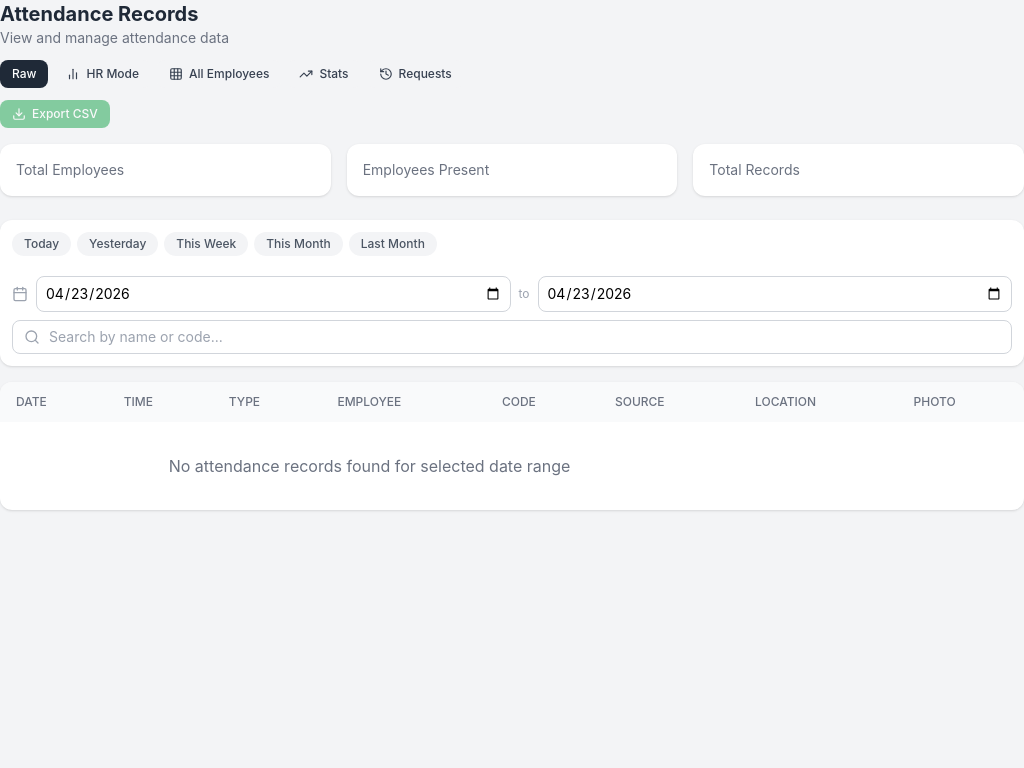
Test: UI Test 02 — Attendance Page › clicking Manual Entry opens modal
This screenshot has width=1024, height=768.
Click the button "HR Mode". click: (103, 74)
box: [54, 60, 151, 88]
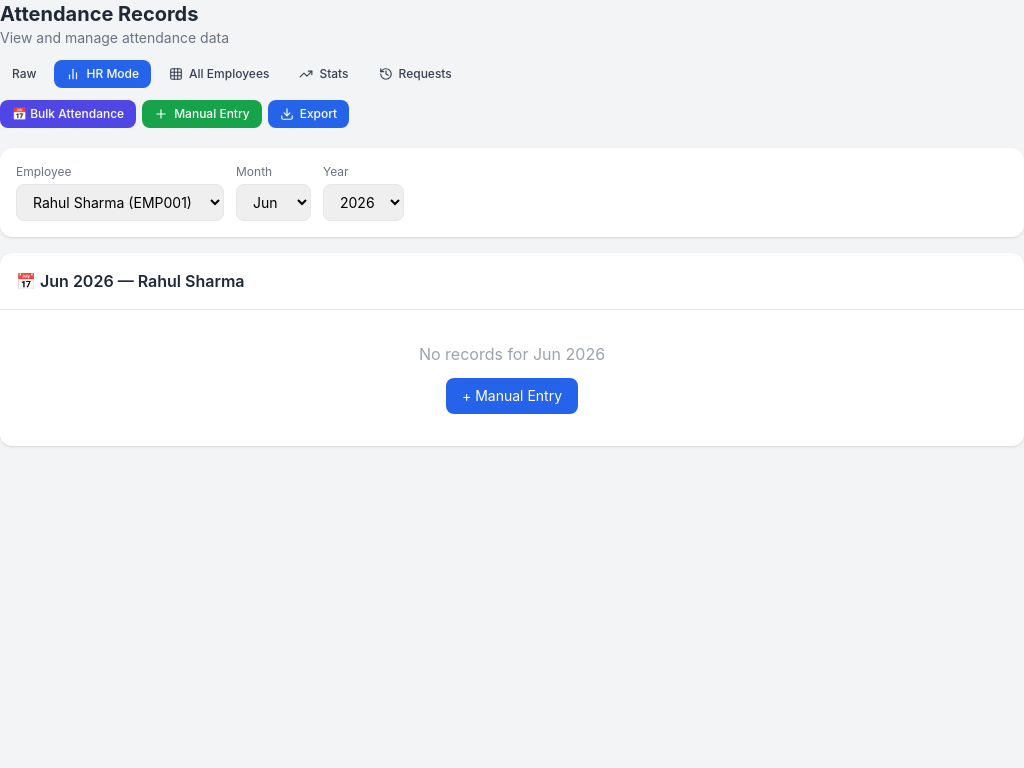
Expected: the button "Manual Entry" is shown
Click the button "Manual Entry". click: (202, 114)
box: [142, 100, 262, 128]
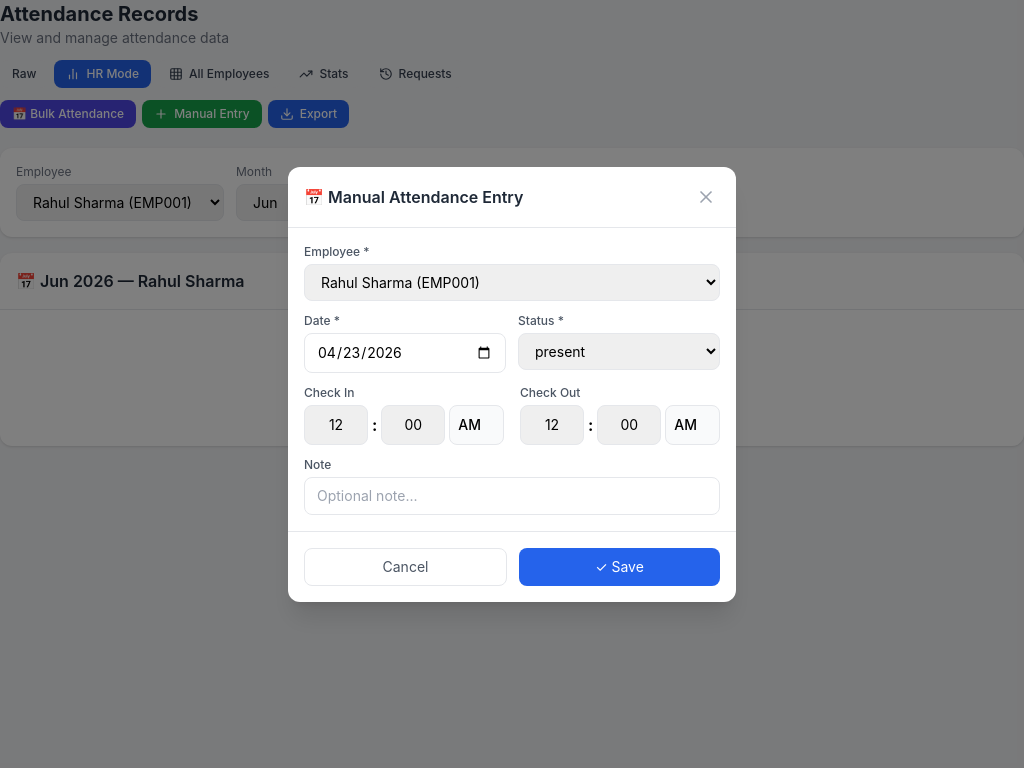
Expected: the heading "📅 Manual Attendance Entry" is shown, [304, 184, 523, 208]
